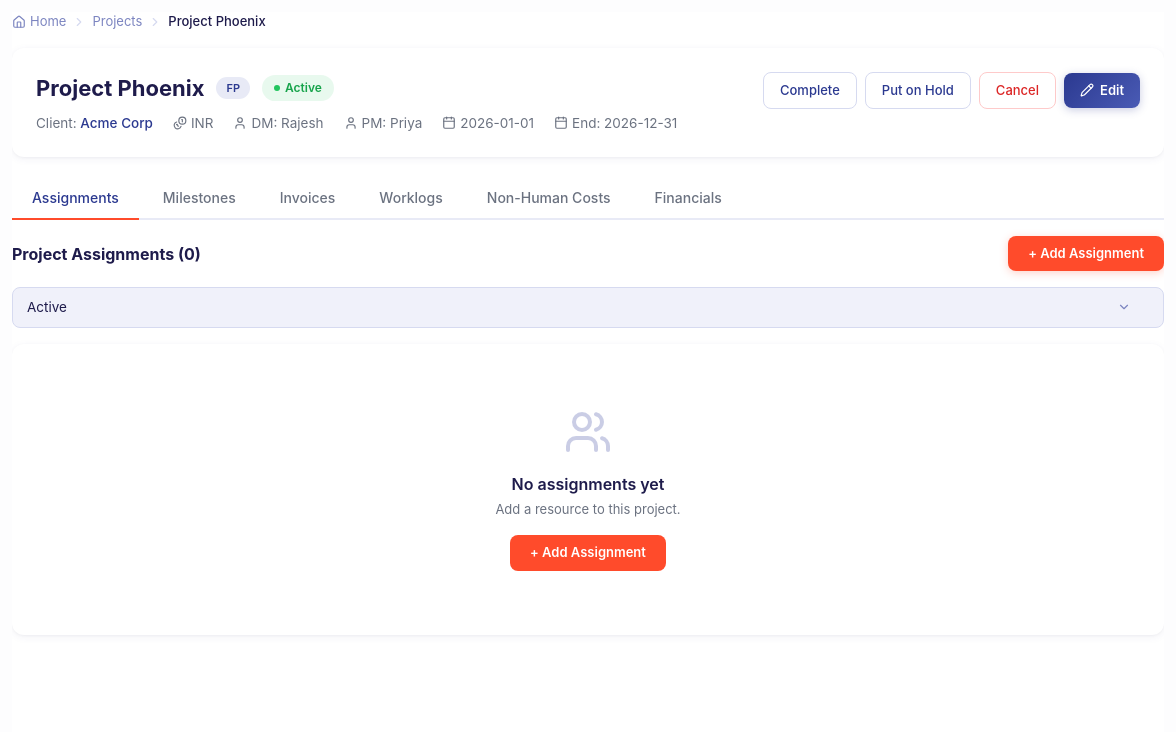
it: ProjectDetail › switches tabs on click
The image size is (1176, 732).
Click the button "Non-Human Costs".
click(549, 198)  # box [467,177,631,220]
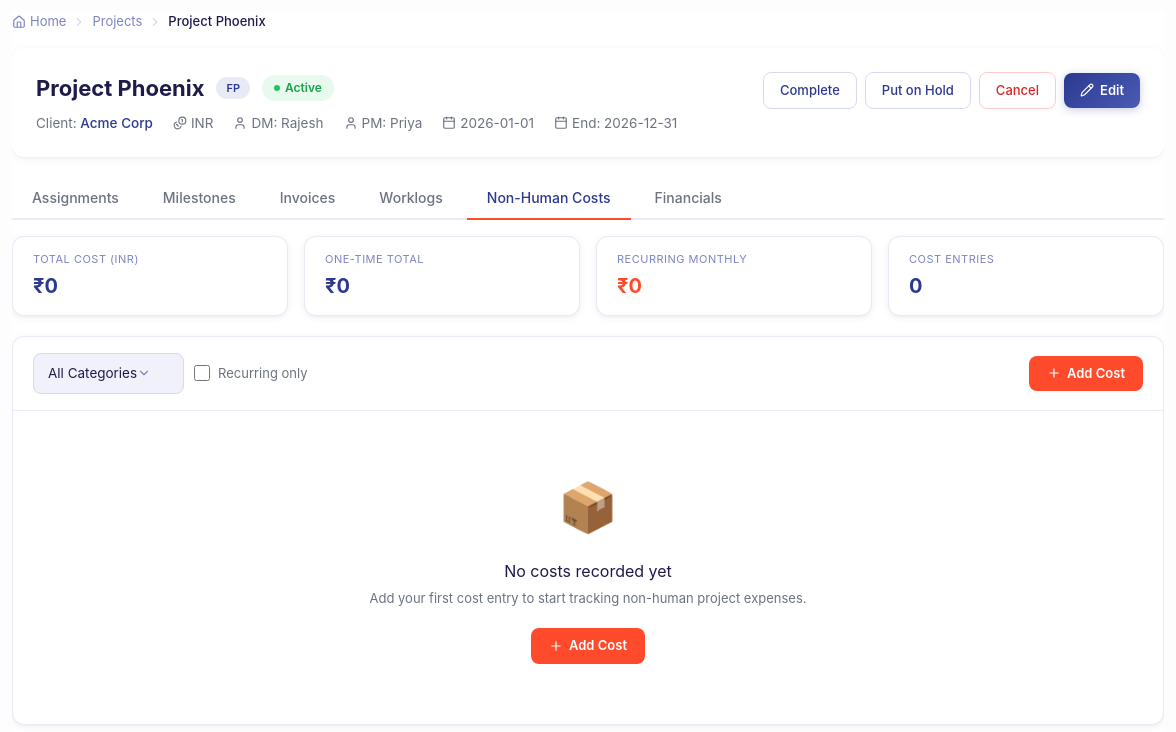
Now the text "Total Cost (INR)" is shown, box [33,252,139,266]
